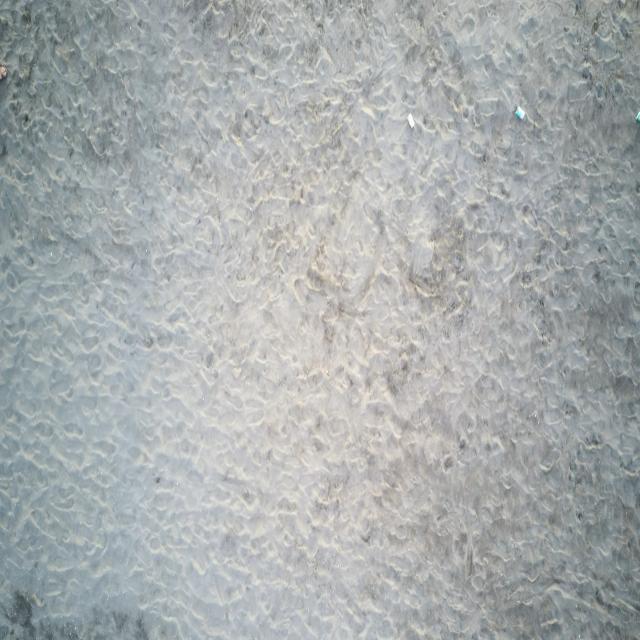tin-and-aluminum-cans: (516, 105, 526, 120), (407, 112, 415, 130)
